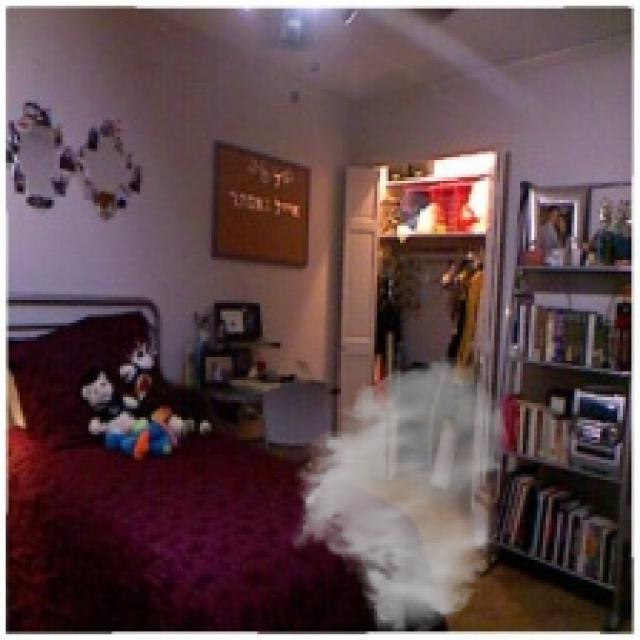smoke: (288, 354, 512, 637)
